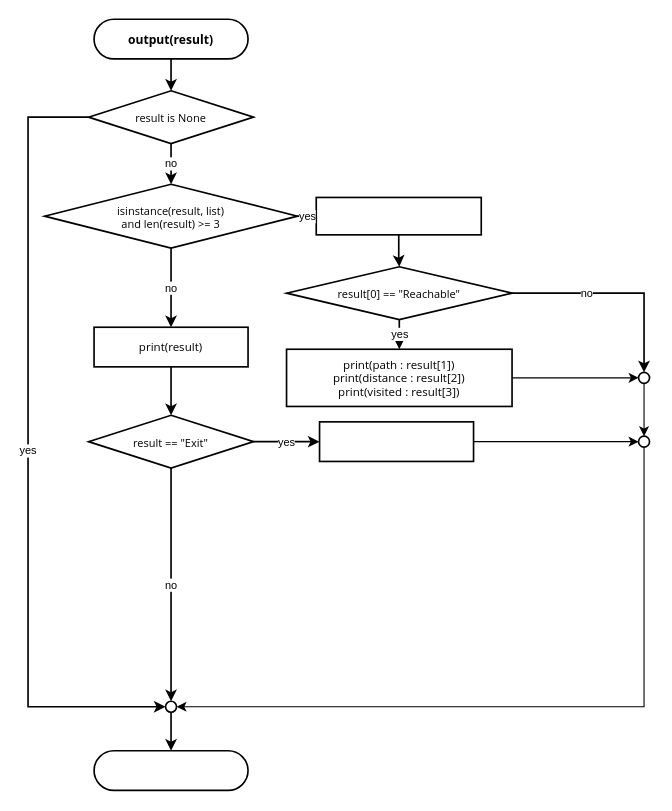
Image size: 672x811. Some labels were removed from this diagram. The box of each missing label's shape, as (x1, y1, x2, y2) in pixels:
print(result[0]): (315, 196, 482, 235)
return None: (93, 749, 248, 791)
sys.exit(): (318, 421, 474, 462)
